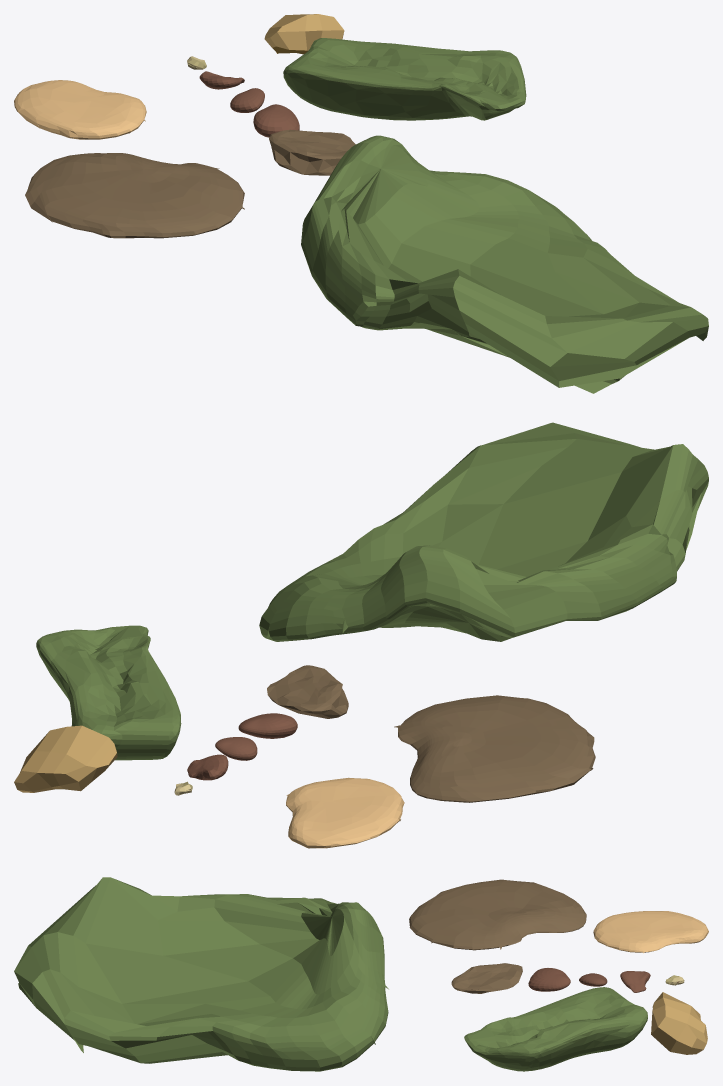
File: lands3.fbx
3 renders of one model, top to bottom at view 1: azimuth 30°, elevation 25°; view 2: azimuth 150°, elevation 25°; view 3: azimuth 270°, elevation 25°, orthographic. The views are drawn at different scales.
Visible parts, largest first — view 1: Cube.017, Cube.012, Cube.010, Cube.002, Cube.011, Cube.019, Cube.013, Cube.027; view 2: Cube.017, Cube.010, Cube.012, Cube.002, Cube.019, Cube.011, Cube.013, Cube.044, Cube.027; view 3: Cube.017, Cube.012, Cube.010, Cube.002, Cube.019, Cube.011, Cube.013, Cube.044.
Part boxes in pixels (box(x1,y1,x2,y2)): Cube.017: box(301, 135, 708, 393); Cube.012: box(283, 38, 526, 120); Cube.010: box(25, 153, 244, 238); Cube.002: box(14, 80, 146, 139); Cube.011: box(269, 129, 355, 175); Cube.019: box(264, 14, 344, 54); Cube.013: box(253, 104, 299, 137); Cube.027: box(230, 88, 264, 112); Cube.017: box(259, 422, 708, 641); Cube.010: box(394, 695, 595, 802); Cube.012: box(36, 625, 181, 760); Cube.002: box(286, 777, 404, 848); Cube.019: box(14, 725, 117, 792); Cube.011: box(267, 665, 348, 718); Cube.013: box(238, 713, 297, 738); Cube.044: box(187, 754, 228, 780); Cube.027: box(215, 737, 257, 760); Cube.017: box(14, 877, 388, 1071); Cube.012: box(464, 987, 647, 1071); Cube.010: box(409, 879, 586, 950); Cube.002: box(593, 911, 708, 953); Cube.019: box(651, 992, 707, 1054); Cube.011: box(451, 963, 522, 993); Cube.013: box(528, 968, 570, 991); Cube.044: box(620, 971, 650, 992).
Size of the model in its own units: 6070 by 1602 by 9462.
